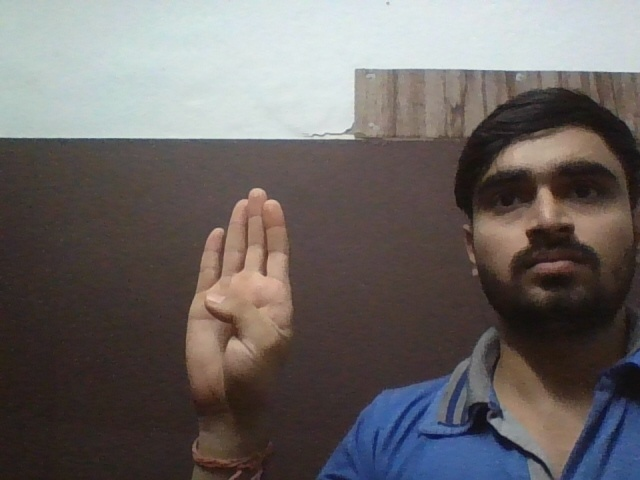B: (182, 186, 298, 404)
